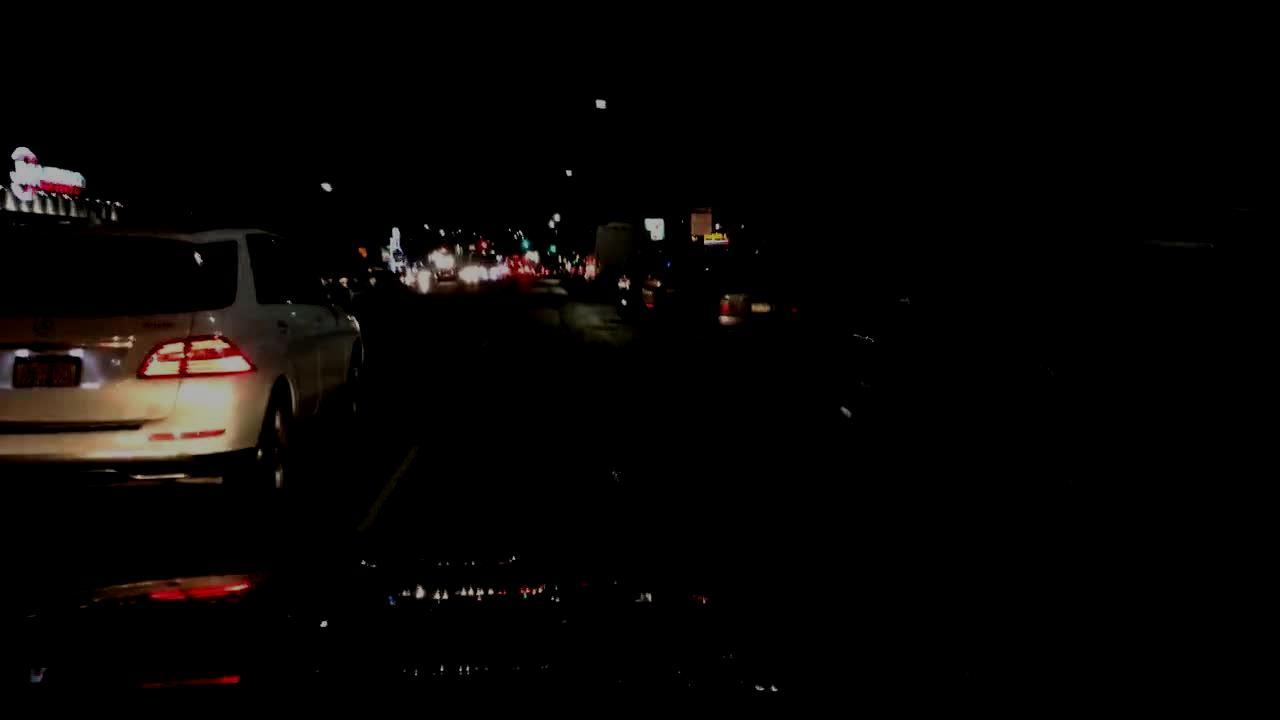Mercedes: (32, 308, 62, 341)
